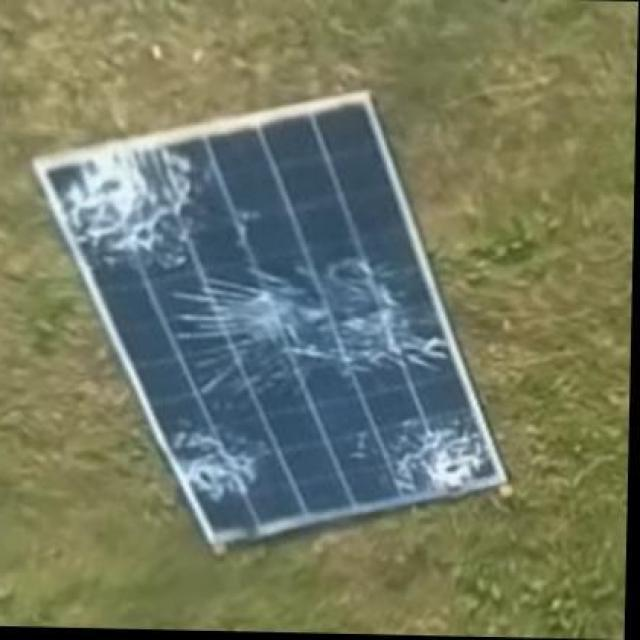cracked: (26, 86, 514, 552)
